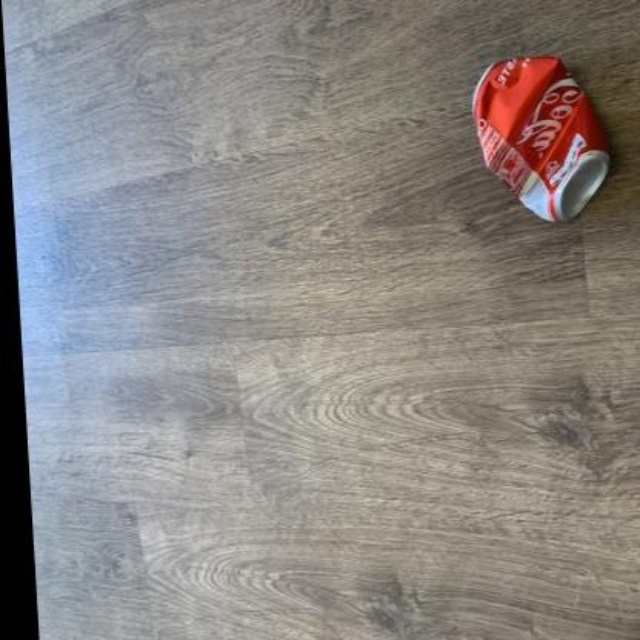trash: (472, 55, 608, 220)
